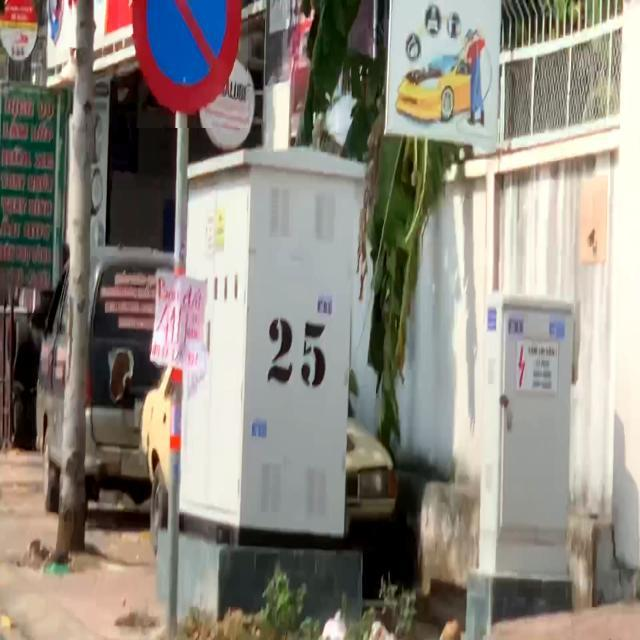P-131a: (118, 0, 248, 128)
